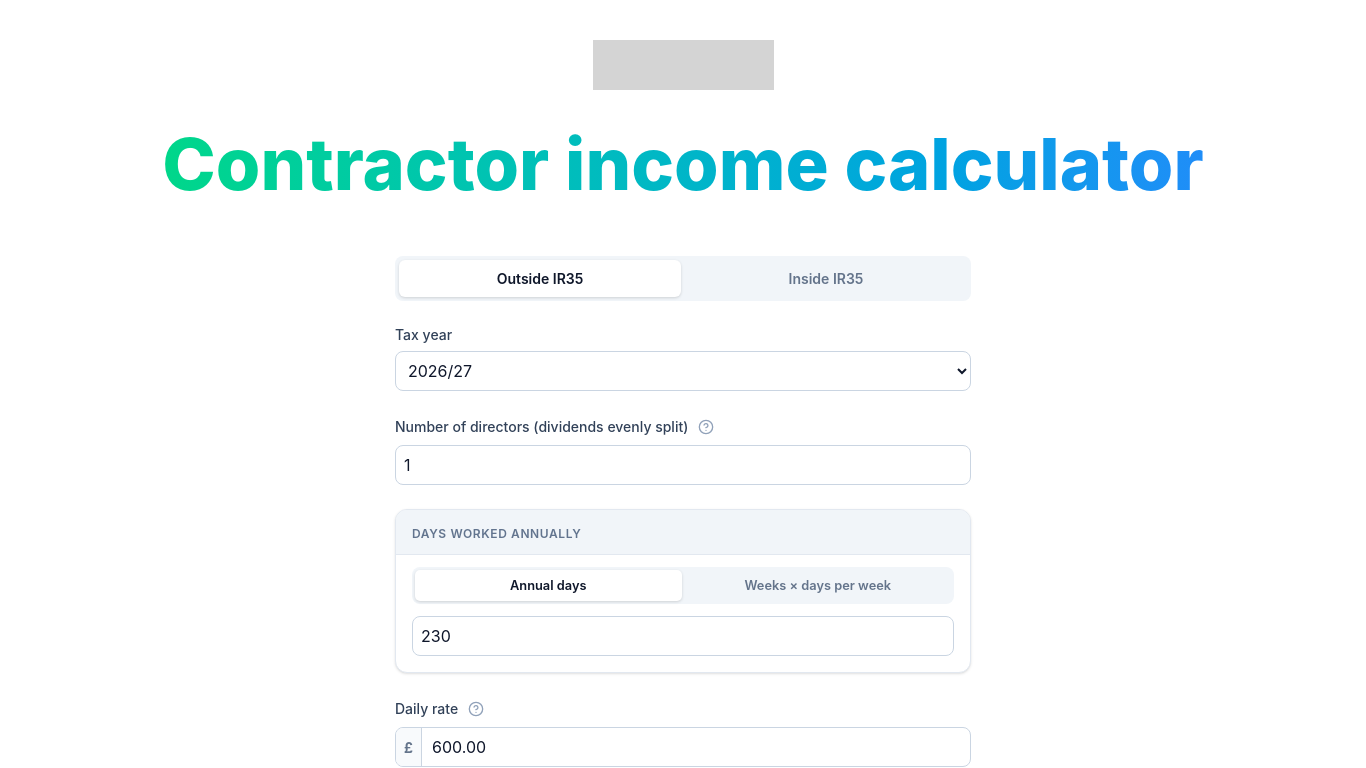
Test case: inside IR35: allowable expenses reduce gross contract value — 150 days at £400/day with £5,000 expenses in 2026/27
Click the button "Inside IR35". click: (826, 278)
box: [685,260,967,297]
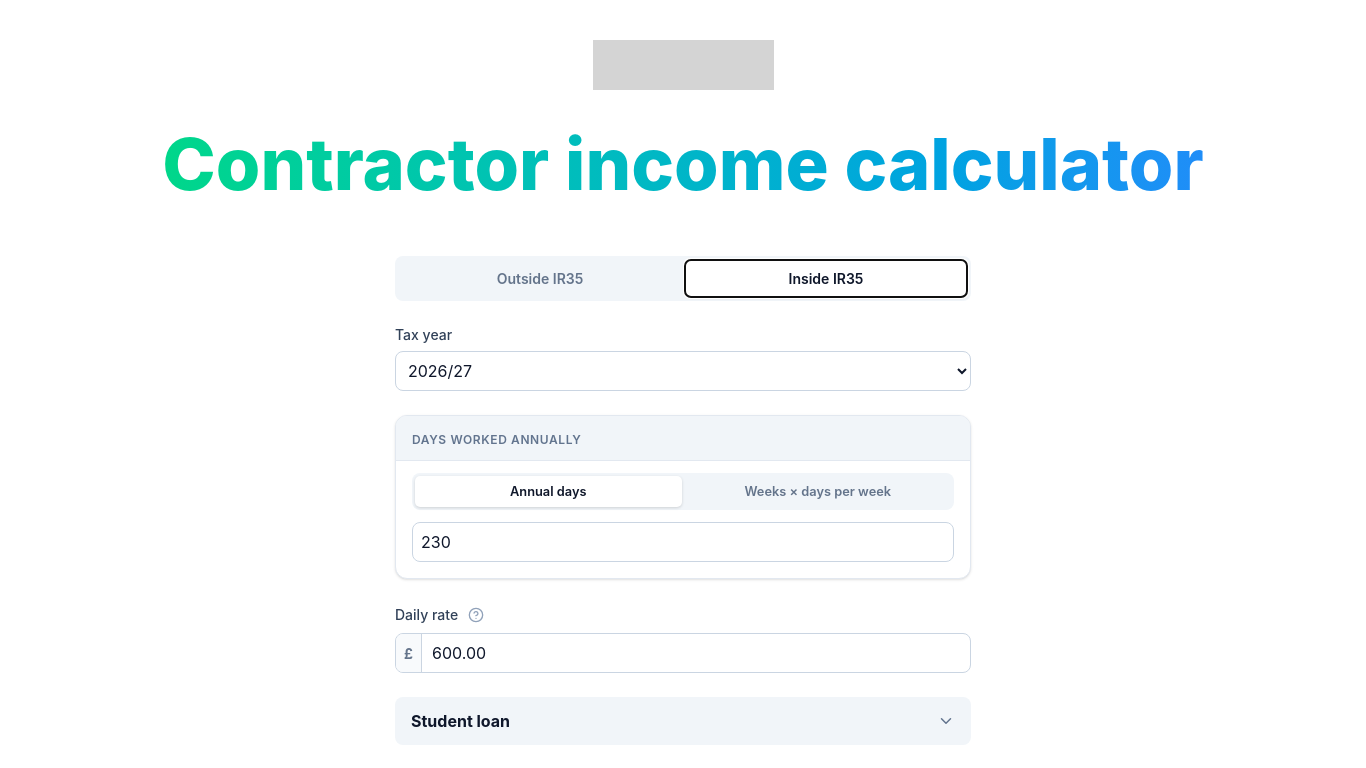
Select "2026/27" in the dropdown labelled "Tax year". click: (683, 371)
box: [395,351,971,391]
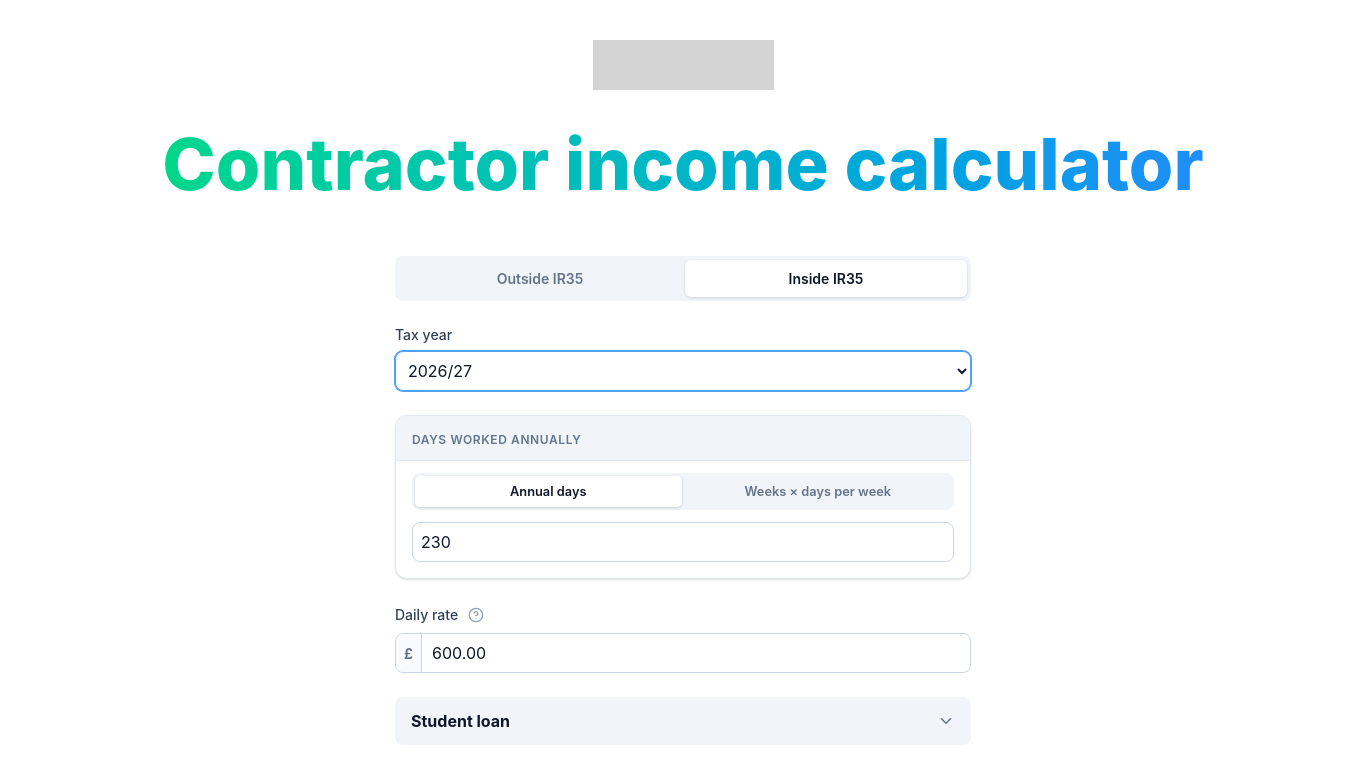
Replace the text in the number field named "days worked annually" with "150". click: (683, 542)
box: [412,522,954,562]
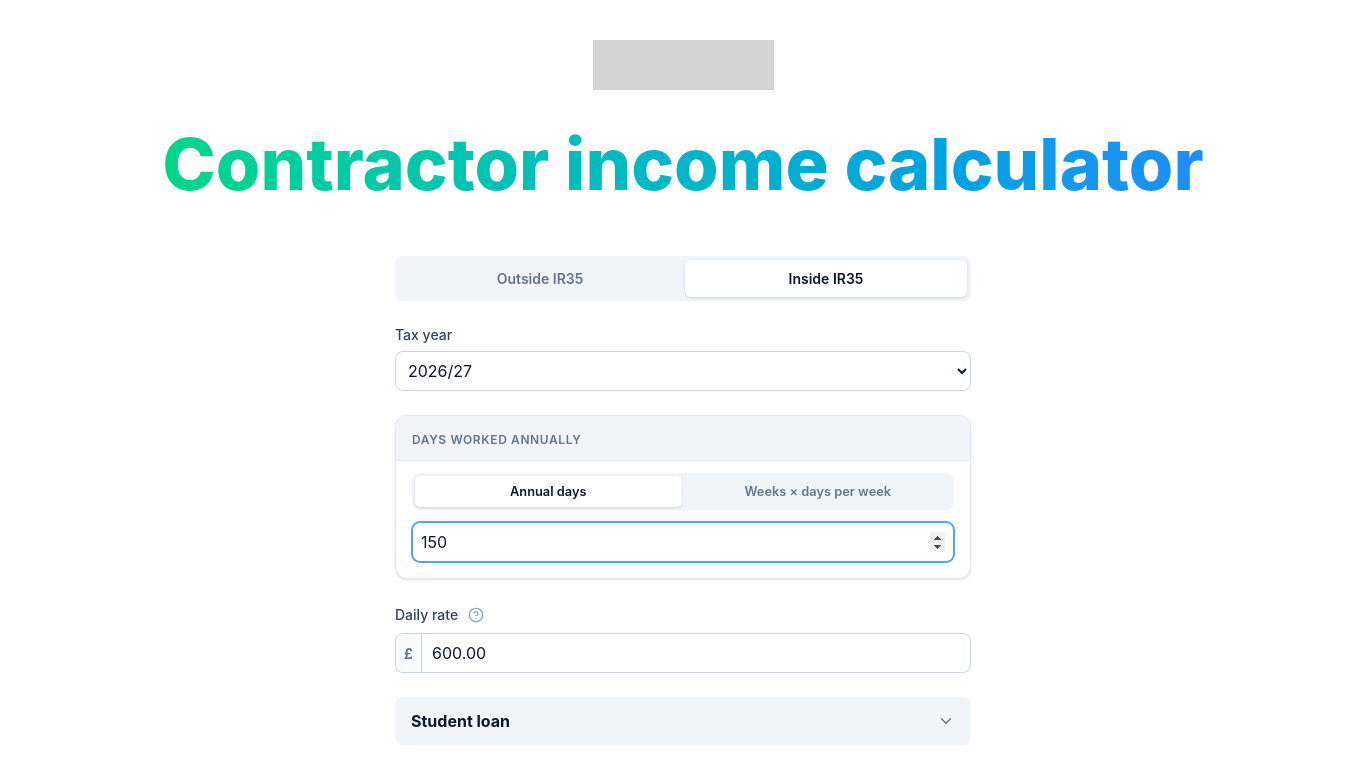
Replace the text in the number field labelled "Daily rate" with "400". click: (683, 653)
box: [395,633,971,673]
(page scrolled)
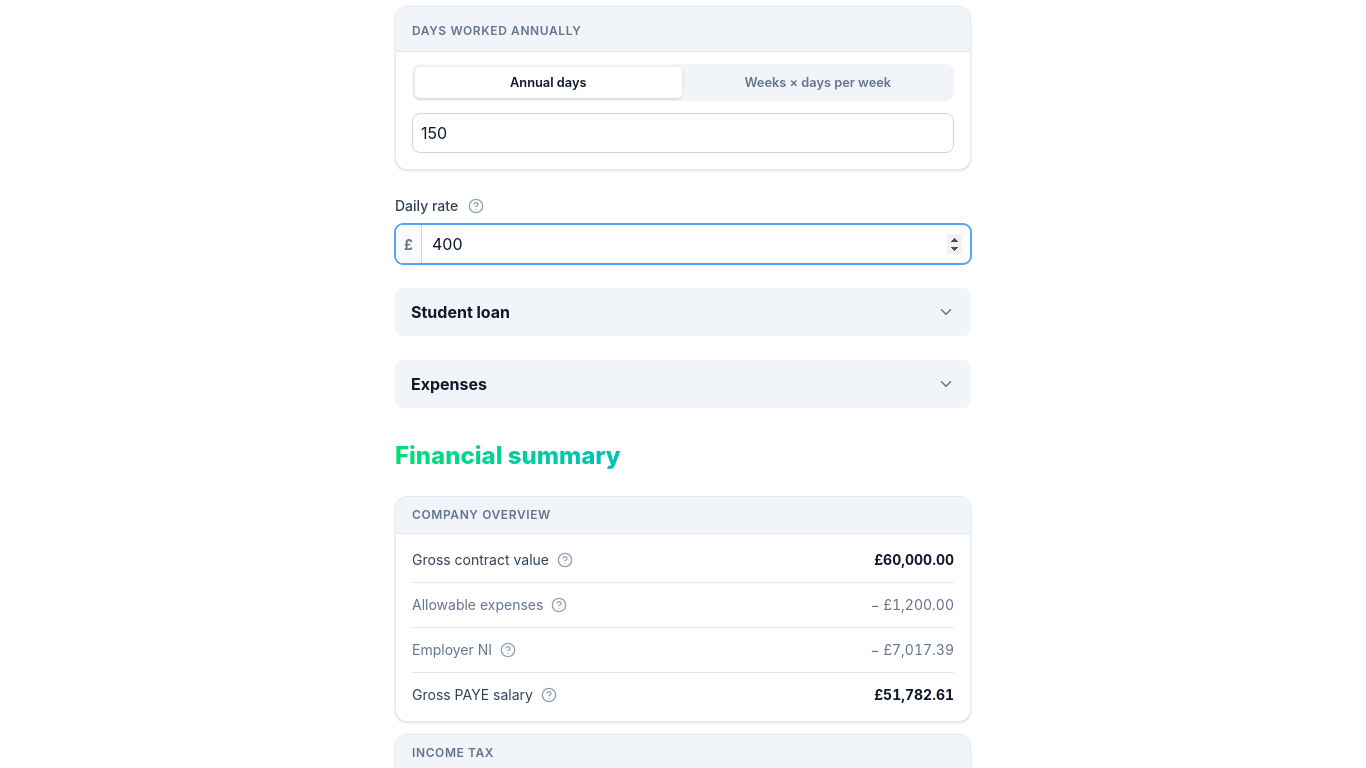
Click the button "Expenses". click: (449, 384)
box: [395,360,971,408]
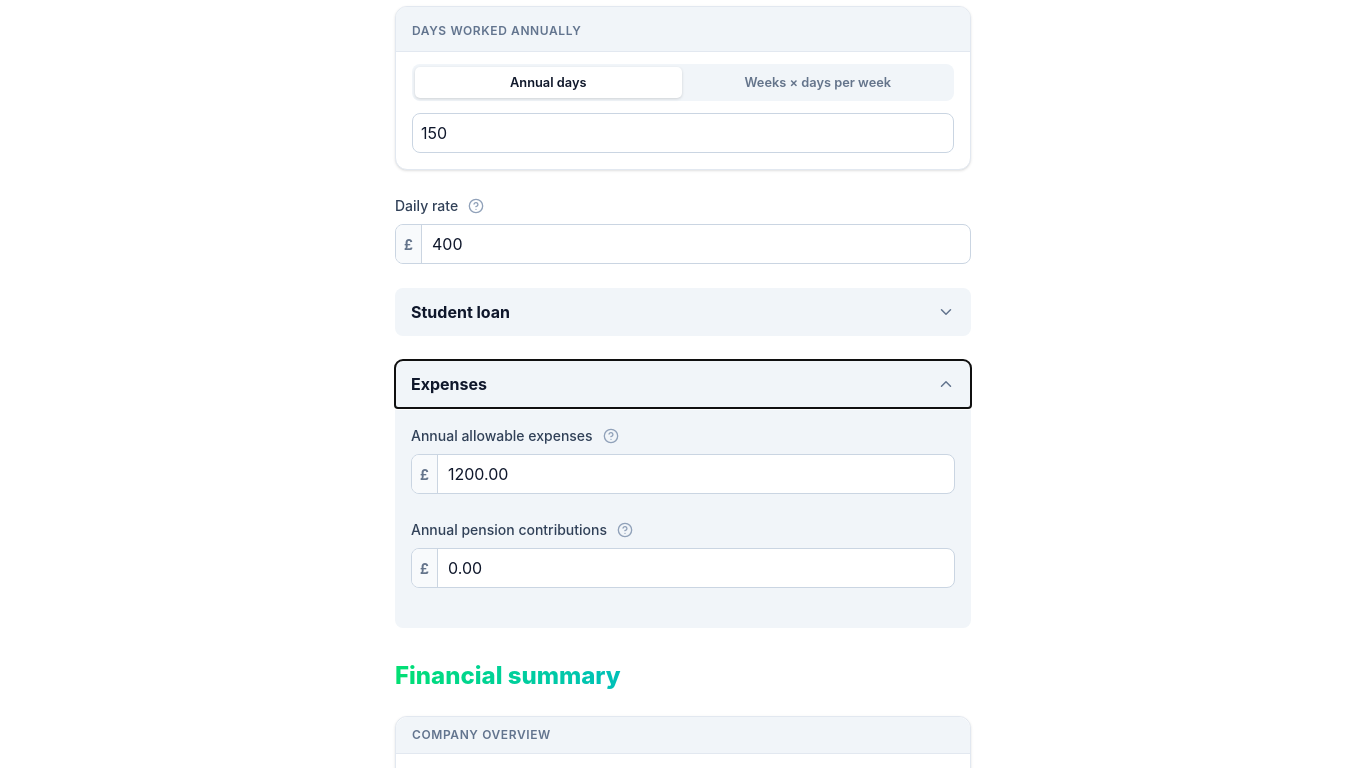
Replace the text in the number field labelled "Annual allowable expenses" with "5000". click: (683, 474)
box: [411,454,955,494]
(page scrolled)
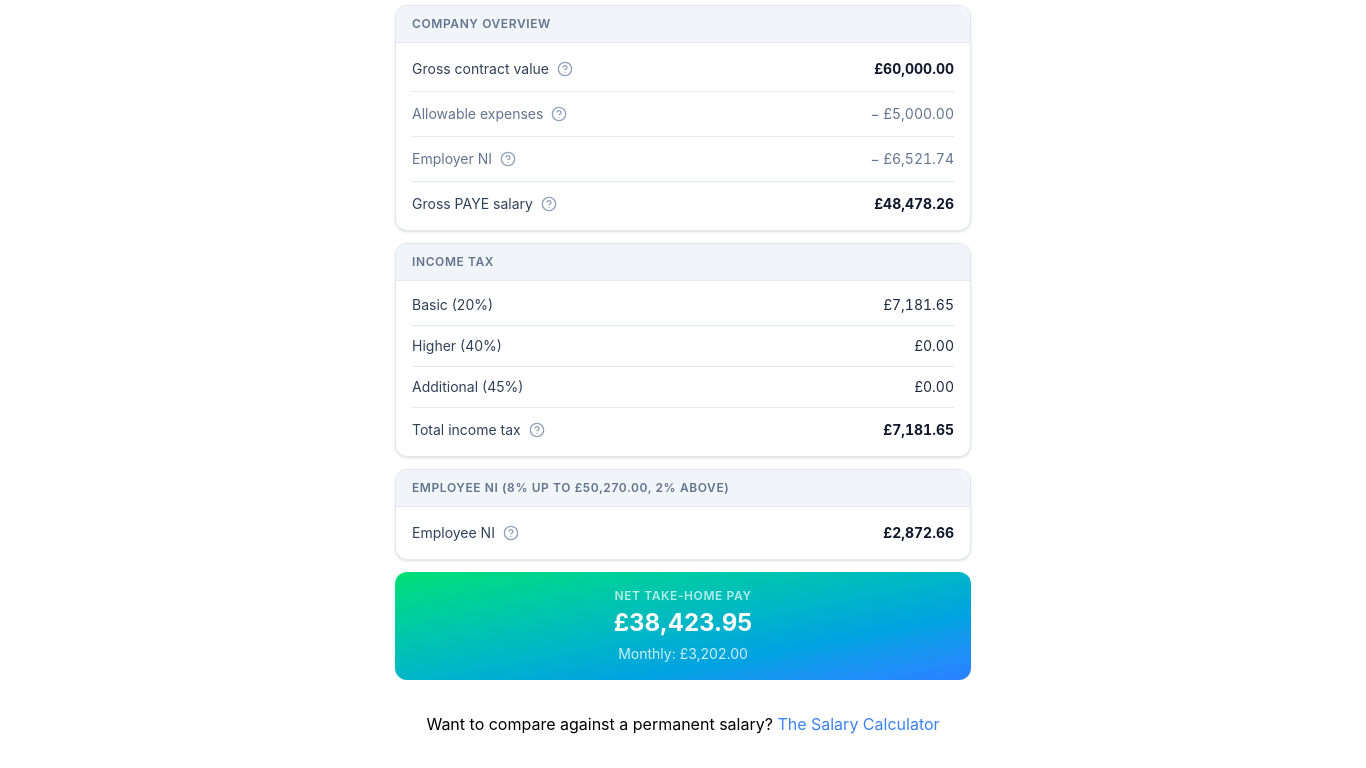
Now the text named "gross contract value" reads "£60,000.00", box [874,60,954,77]
Now the text named "allowable expenses" shows "£5,000.00", box [871,105,954,122]
Now the text named "employer ni" shows "£6,521.74", box [871,150,954,167]
